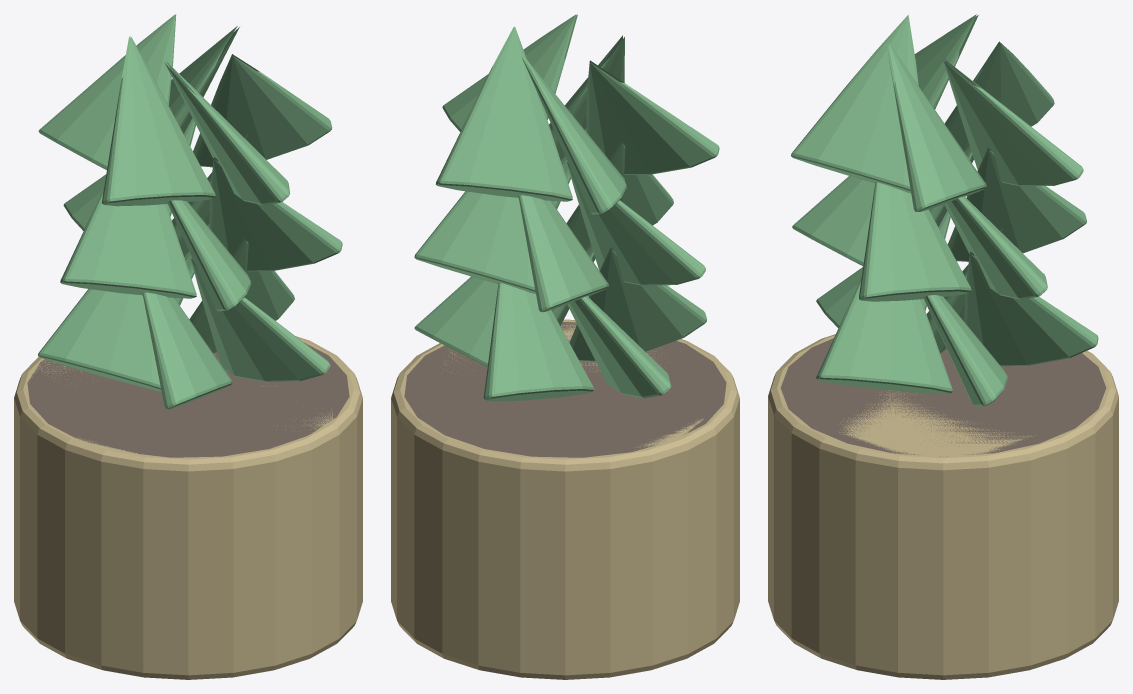
Rendered from partitions___dividers_asset_catalog_55.glb.
3 renders of one model, left to right at view 1: azimuth 30°, elevation 25°; view 2: azimuth 150°, elevation 25°; view 3: azimuth 270°, elevation 25°, orthographic.
Parts seen in each view (by area): view 1: Cylinder; view 2: Cylinder; view 3: Cylinder.
Part boxes in pixels (x1,y1,x2,y2): Cylinder: (14, 14, 362, 679); Cylinder: (391, 14, 739, 679); Cylinder: (768, 14, 1118, 679).
Size of the model in its own units: 0.546 by 0.9875 by 0.546.
